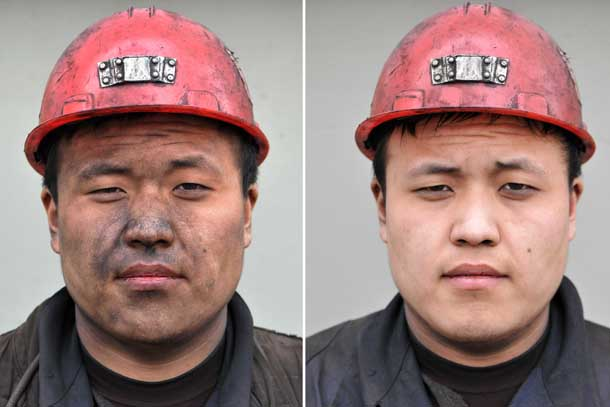helmet: (29, 5, 276, 341), (356, 3, 588, 343)
